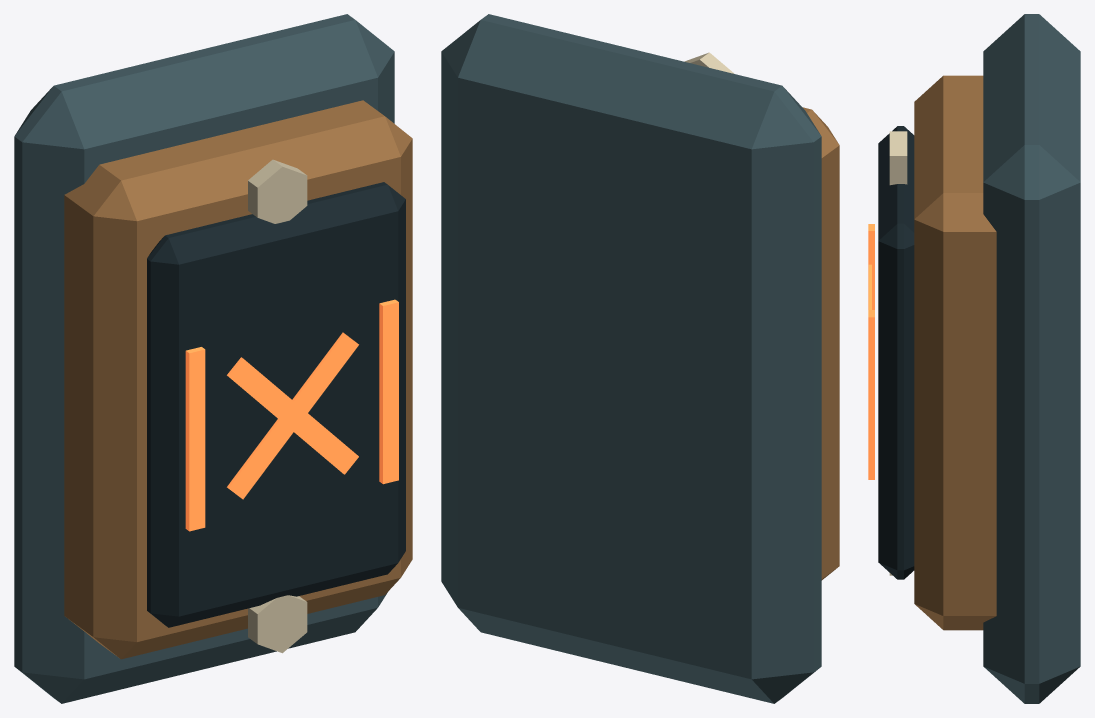
Rendered from e10b-vault-seal-closed.glb.
3 renders of one model, left to right at view 1: azimuth 30°, elevation 25°; view 2: azimuth 150°, elevation 25°; view 3: azimuth 270°, elevation 25°, orthographic. The views are drawn at different scales.
Visible parts, largest first — view 1: e10b-vault-seal-closed; view 2: e10b-vault-seal-closed; view 3: e10b-vault-seal-closed.
Boxes of the visible parts, left/top/right/bottom form: e10b-vault-seal-closed: left=14, top=14, right=412, bottom=703; e10b-vault-seal-closed: left=441, top=14, right=839, bottom=703; e10b-vault-seal-closed: left=868, top=14, right=1080, bottom=703.
Bounding box in the file's own units: 0.35 × 0.55 × 0.1895.
